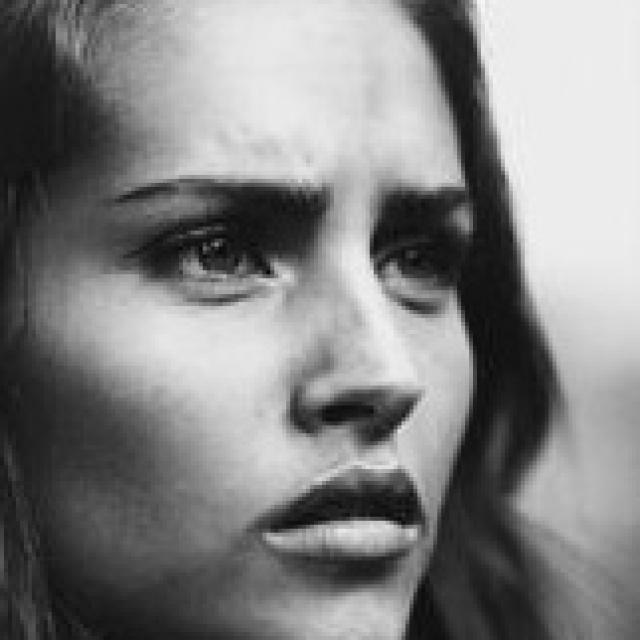Depress: (3, 0, 480, 636)
